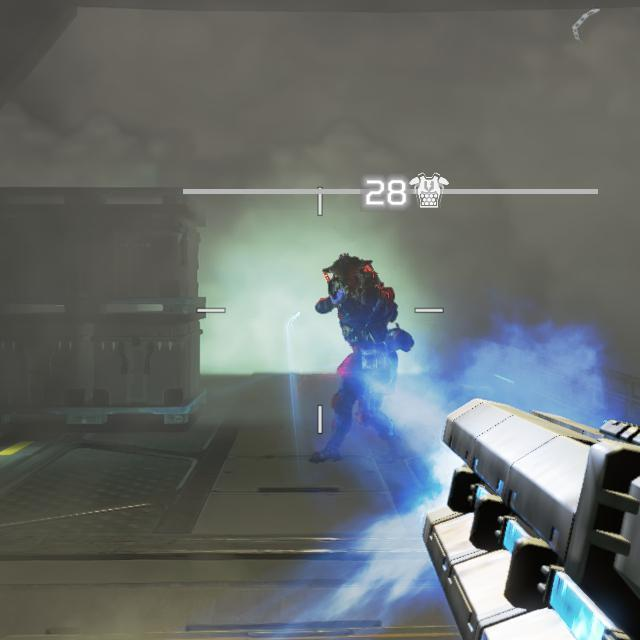avatar: (312, 249, 416, 466)
